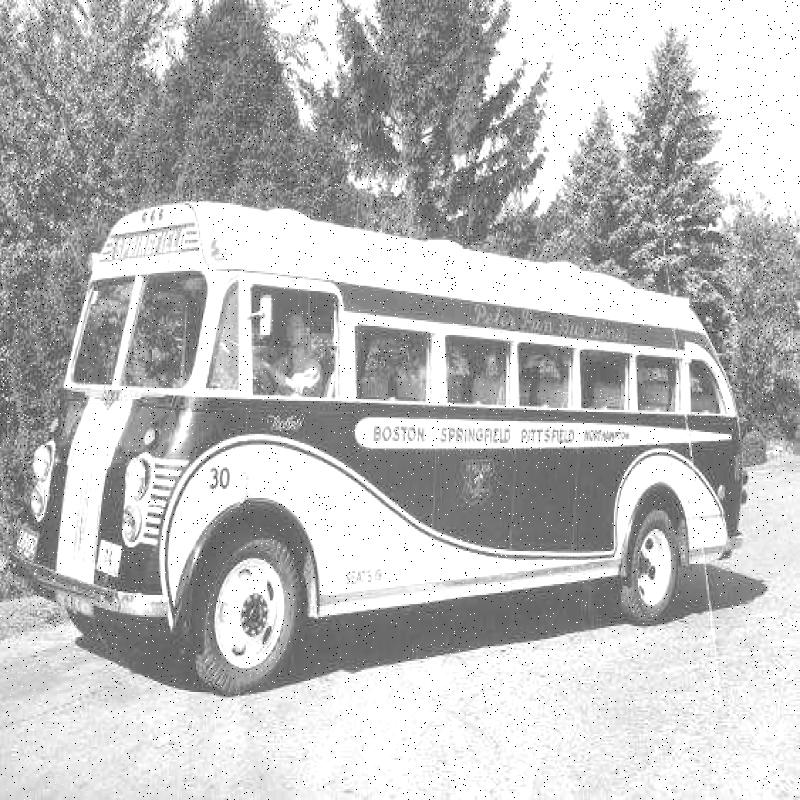bus: (37, 143, 780, 684)
